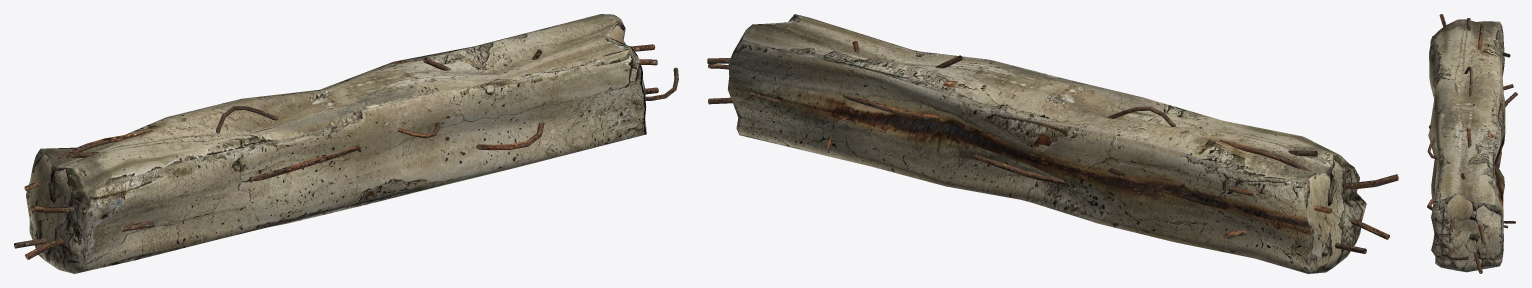
Rendered from ColumnBrkn.fbx.
3 renders of one model, left to right at view 1: azimuth 30°, elevation 25°; view 2: azimuth 150°, elevation 25°; view 3: azimuth 270°, elevation 25°, orthographic. The views are drawn at different scales.
Visible parts, largest first — view 1: Cube.002; view 2: Cube.002; view 3: Cube.002.
Part boxes in pixels (x1,y1,x2,y2): Cube.002: (14, 14, 678, 273); Cube.002: (707, 14, 1398, 273); Cube.002: (1427, 14, 1517, 273).
Size of the model in its own units: 329 by 55.3 by 57.86.
1 material, 1 textured.
